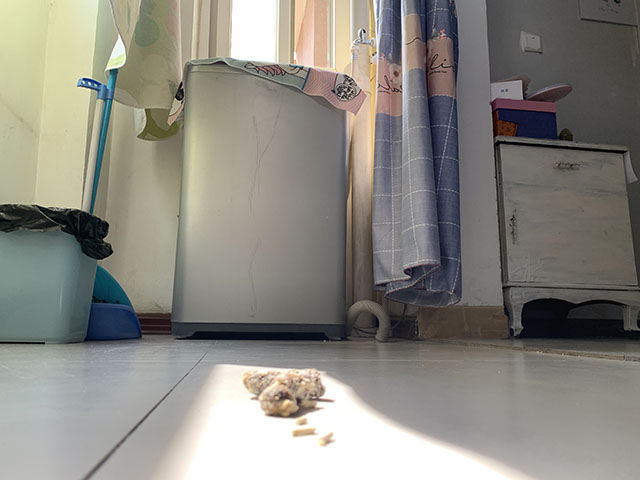cabinet: (494, 134, 640, 341)
curtain: (370, 1, 464, 309)
feces: (239, 366, 327, 418)
trashcan: (1, 203, 115, 346)
